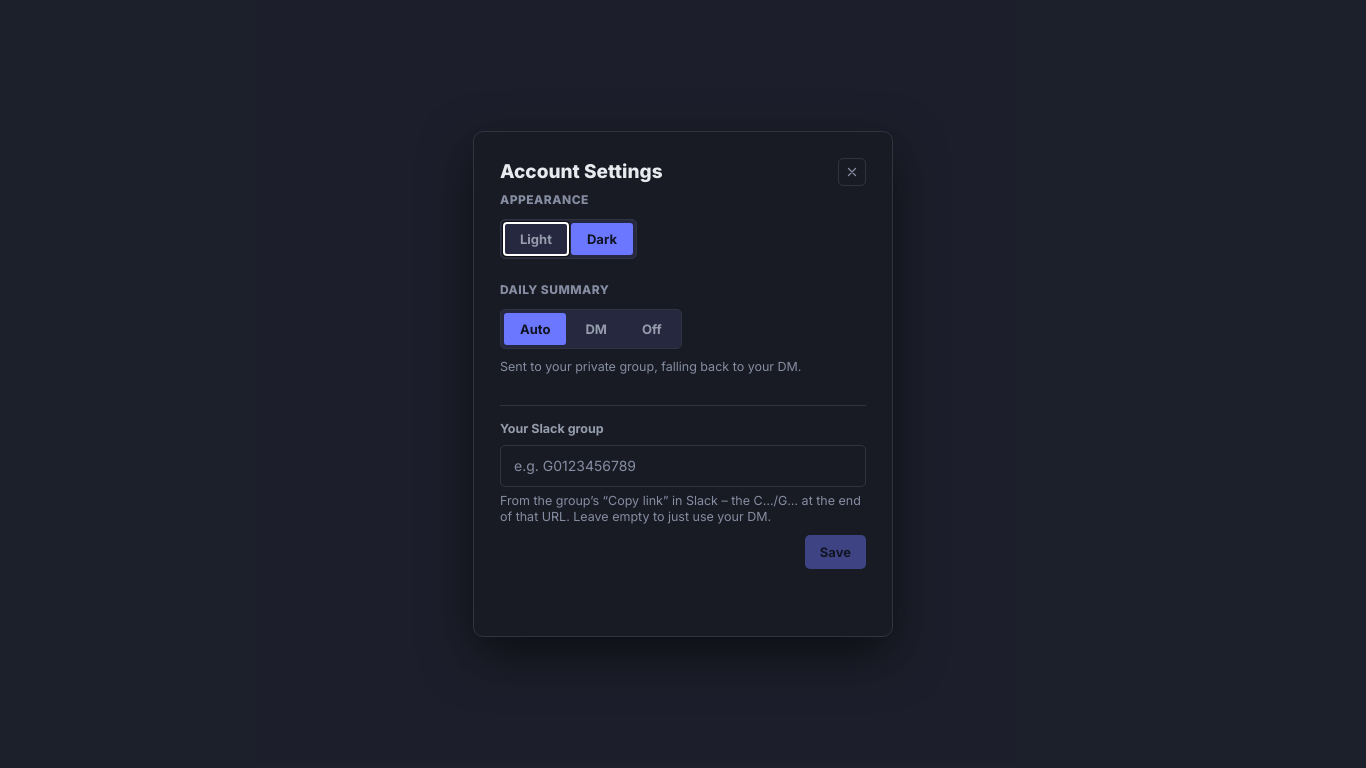
AccountSettingsModal › Slack group id (only while Auto is selected) › should save a new group id and show a plain success result
The image size is (1366, 768).
In the field labelled "Your Slack group": x=683, y=466 left=500, top=445, right=866, bottom=487, type "G-NEW"
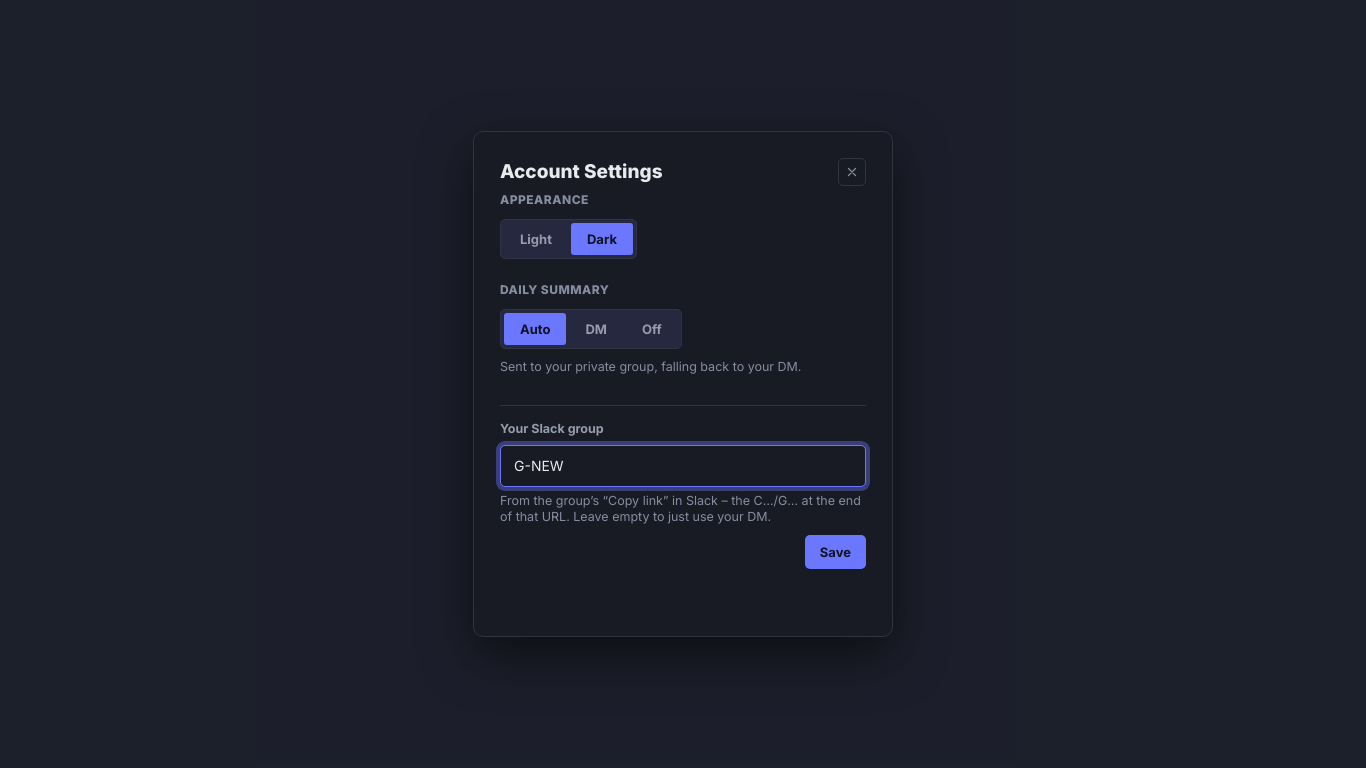
Click the button "Save": x=835, y=552 left=805, top=535, right=866, bottom=569
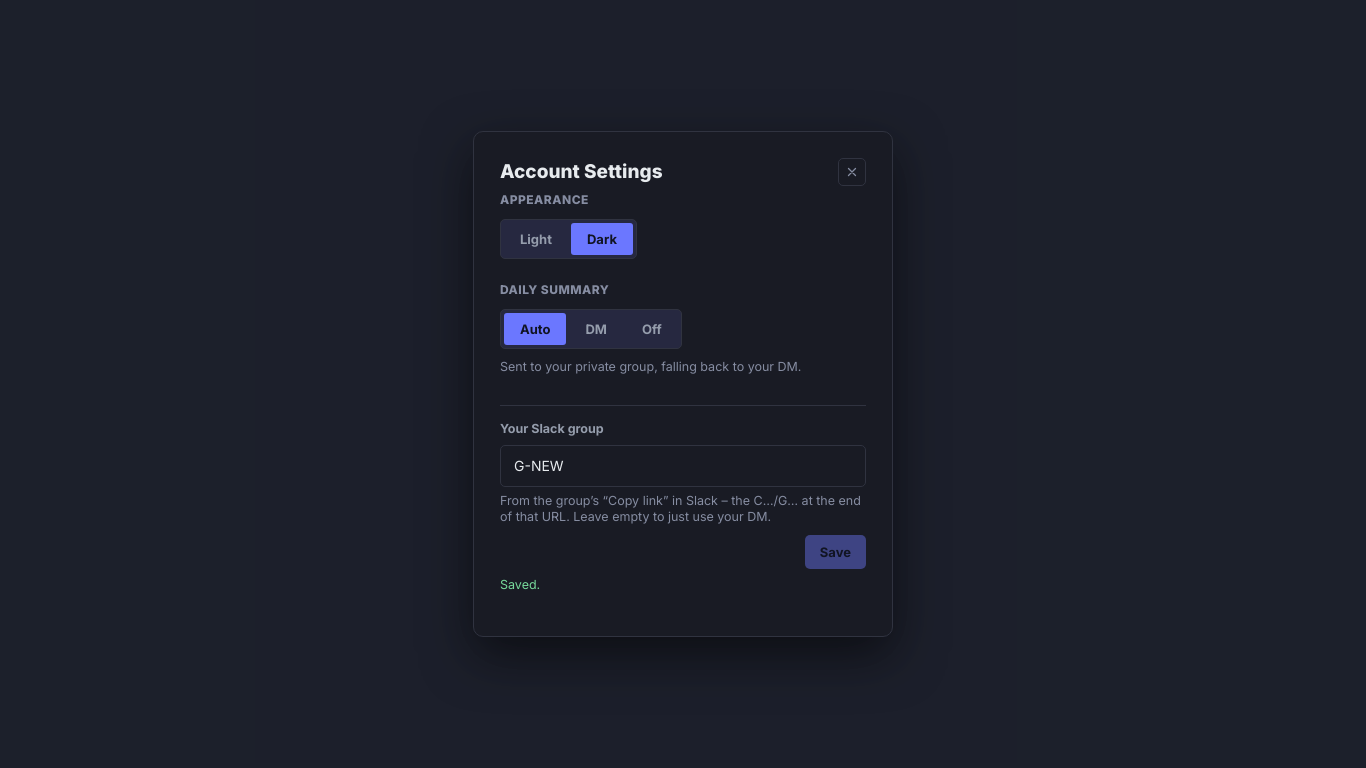
Now the text "Saved." is shown, box left=500, top=577, right=540, bottom=592
